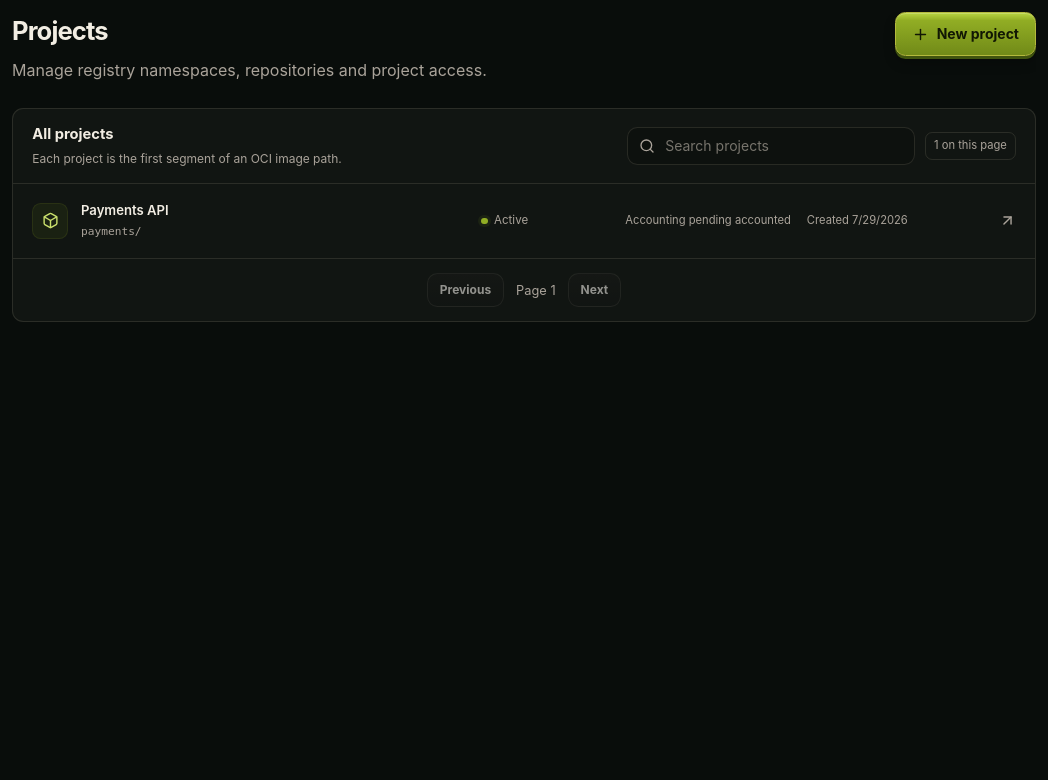
Test case: ProjectsPage › shows a dedicated empty state when the search has no matches
In the search field named "Search projects": (771, 146) left=627, top=127, right=915, bottom=165, type "missing"
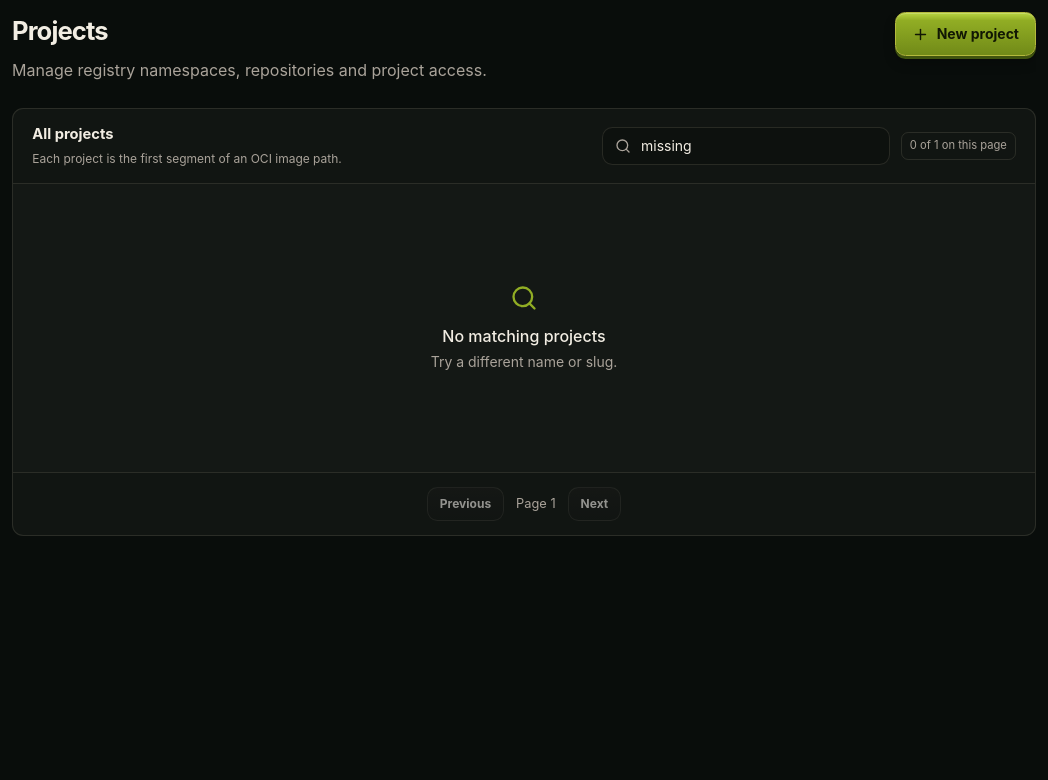
Check: the text "No matching projects" is shown, box left=431, top=324, right=617, bottom=348
Check: the text "0 of 1 on this page" is shown, box left=901, top=132, right=1016, bottom=160
